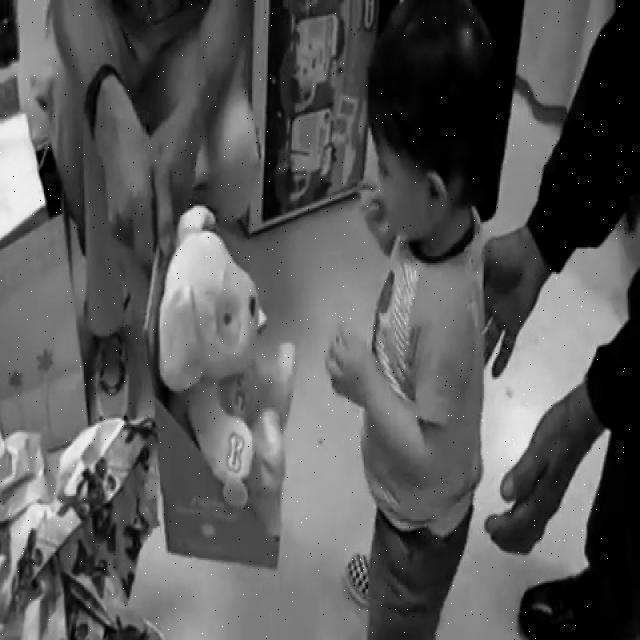child: (326, 0, 507, 640)
